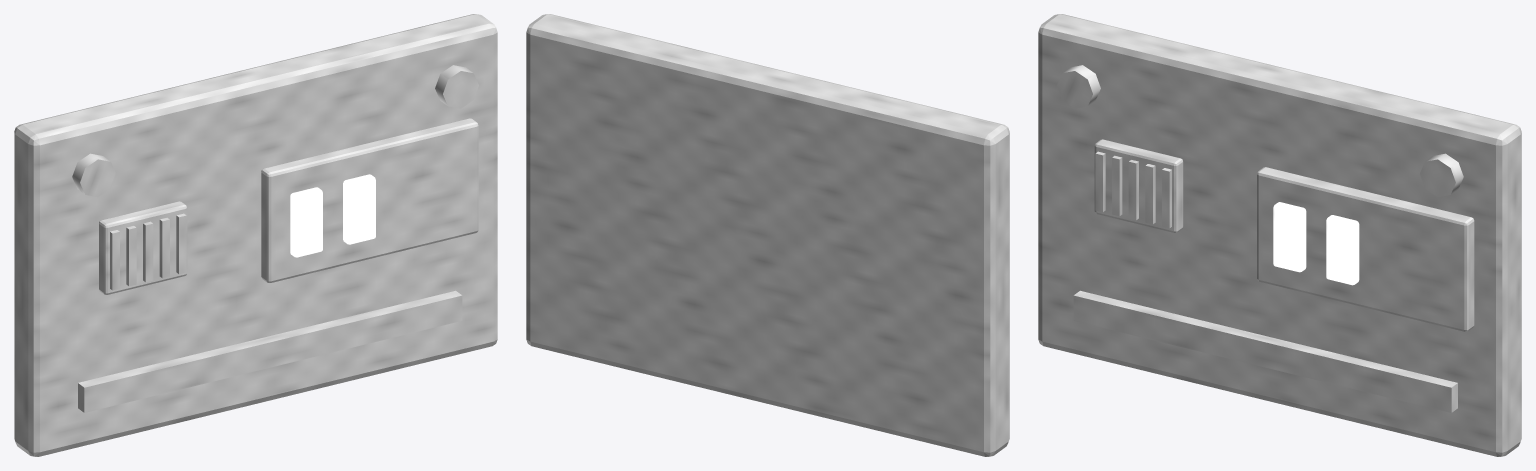
Rendered from keycard_blue.glb.
3 views of the same model, side by side, from view 1: azimuth 30°, elevation 25°; view 2: azimuth 150°, elevation 25°; view 3: azimuth 330°, elevation 25° (orthographic).
Visible parts, largest first — view 1: keycard_blue; view 2: keycard_blue; view 3: keycard_blue.
Part boxes in pixels (x1,y1,x2,y2): keycard_blue: (14, 14, 497, 456); keycard_blue: (526, 14, 1009, 456); keycard_blue: (1038, 14, 1521, 456).
Bounding box in the file's own units: 0.31 × 0.204 × 0.0395.
6 materials, 6 textured.
